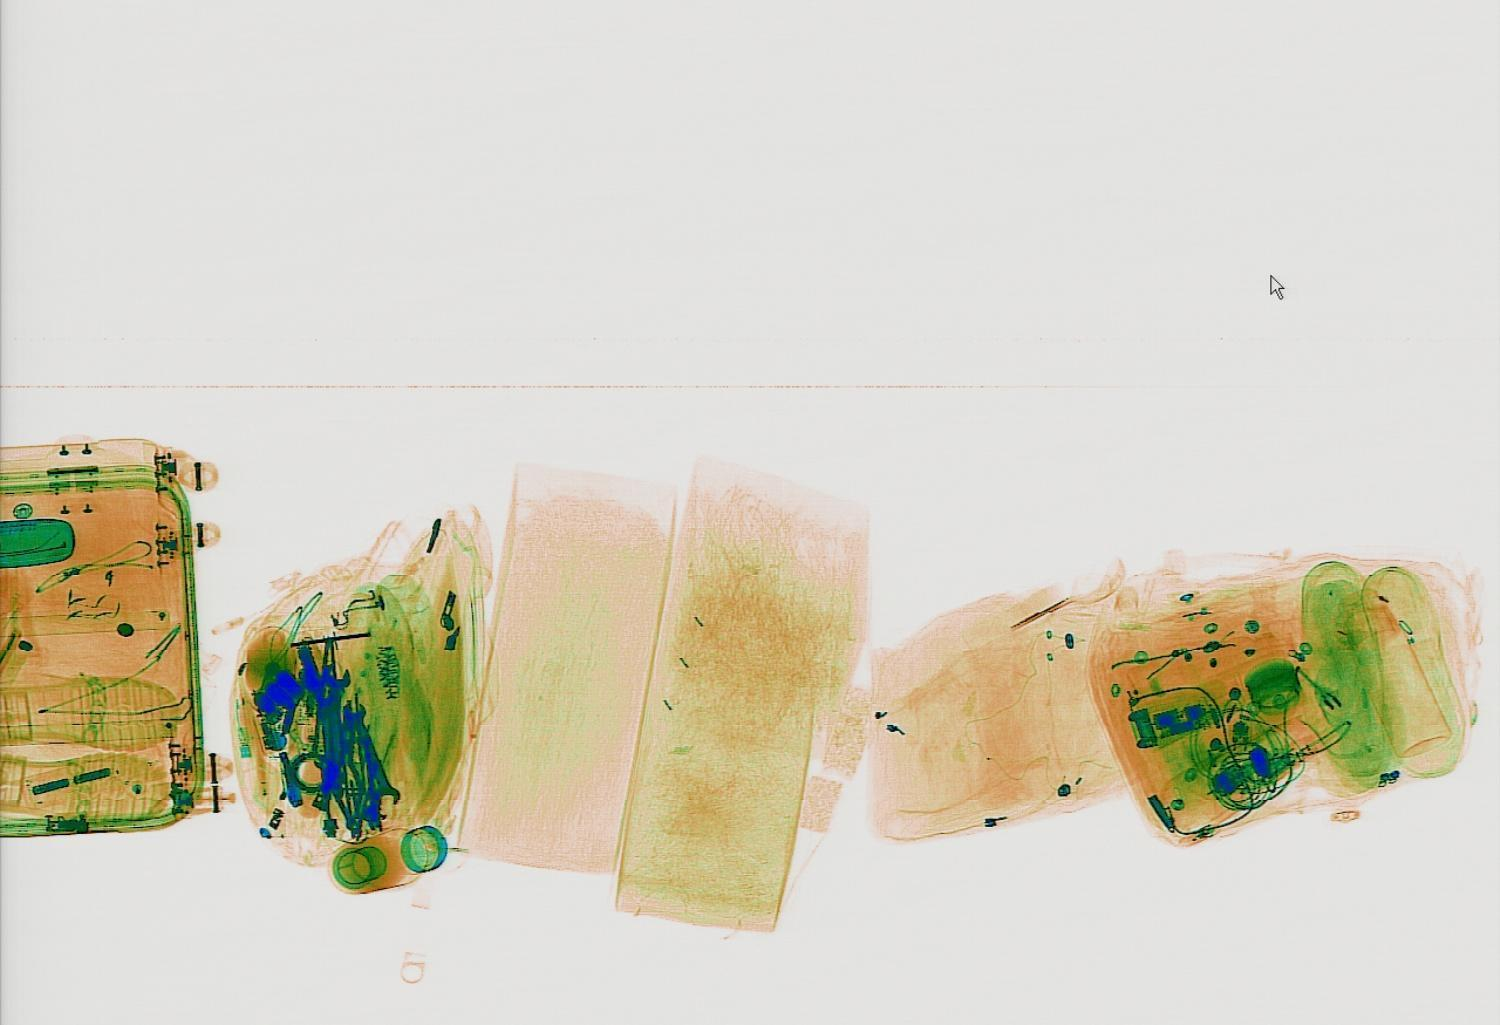Wrench: (325, 701, 407, 809), (315, 663, 348, 784)
